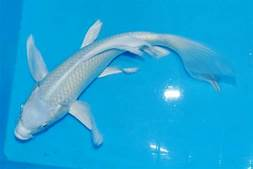white: (13, 19, 235, 147)
